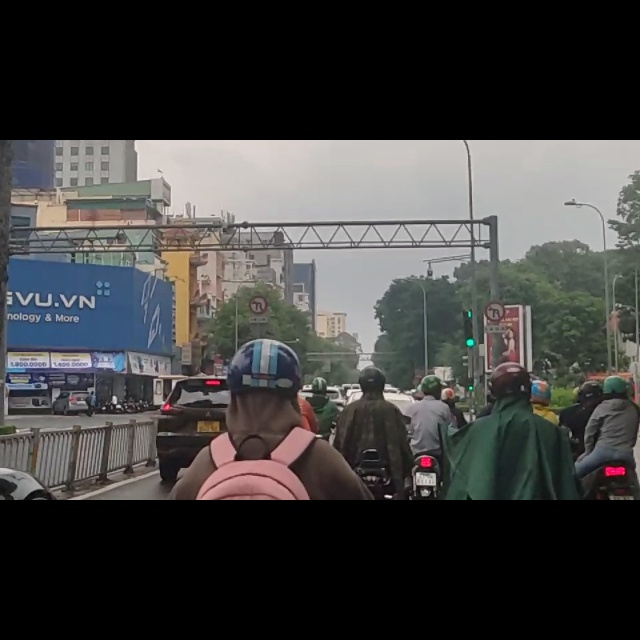bien_cam: (247, 277, 267, 313), (486, 287, 506, 321)
